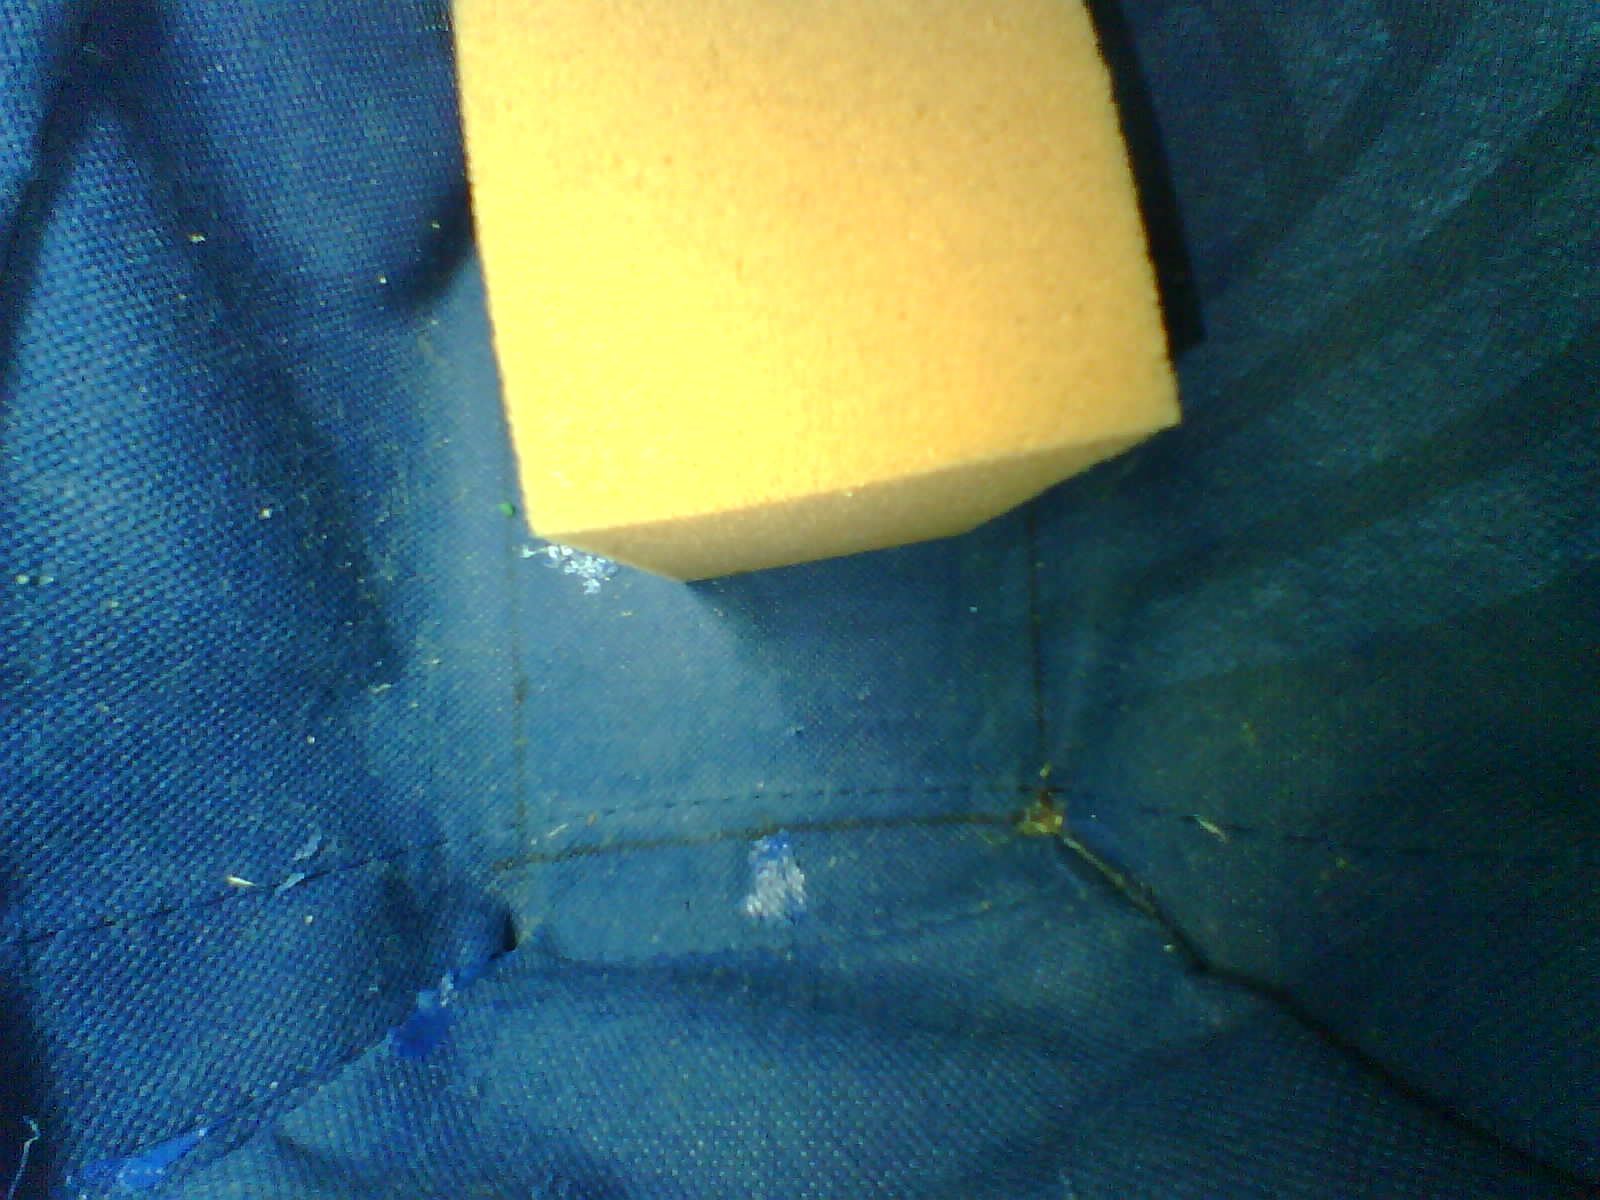cube-soft: (430, 0, 1194, 606)
